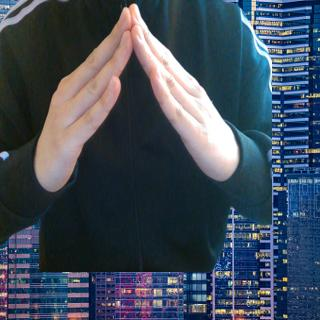HOME: (33, 3, 239, 189)
